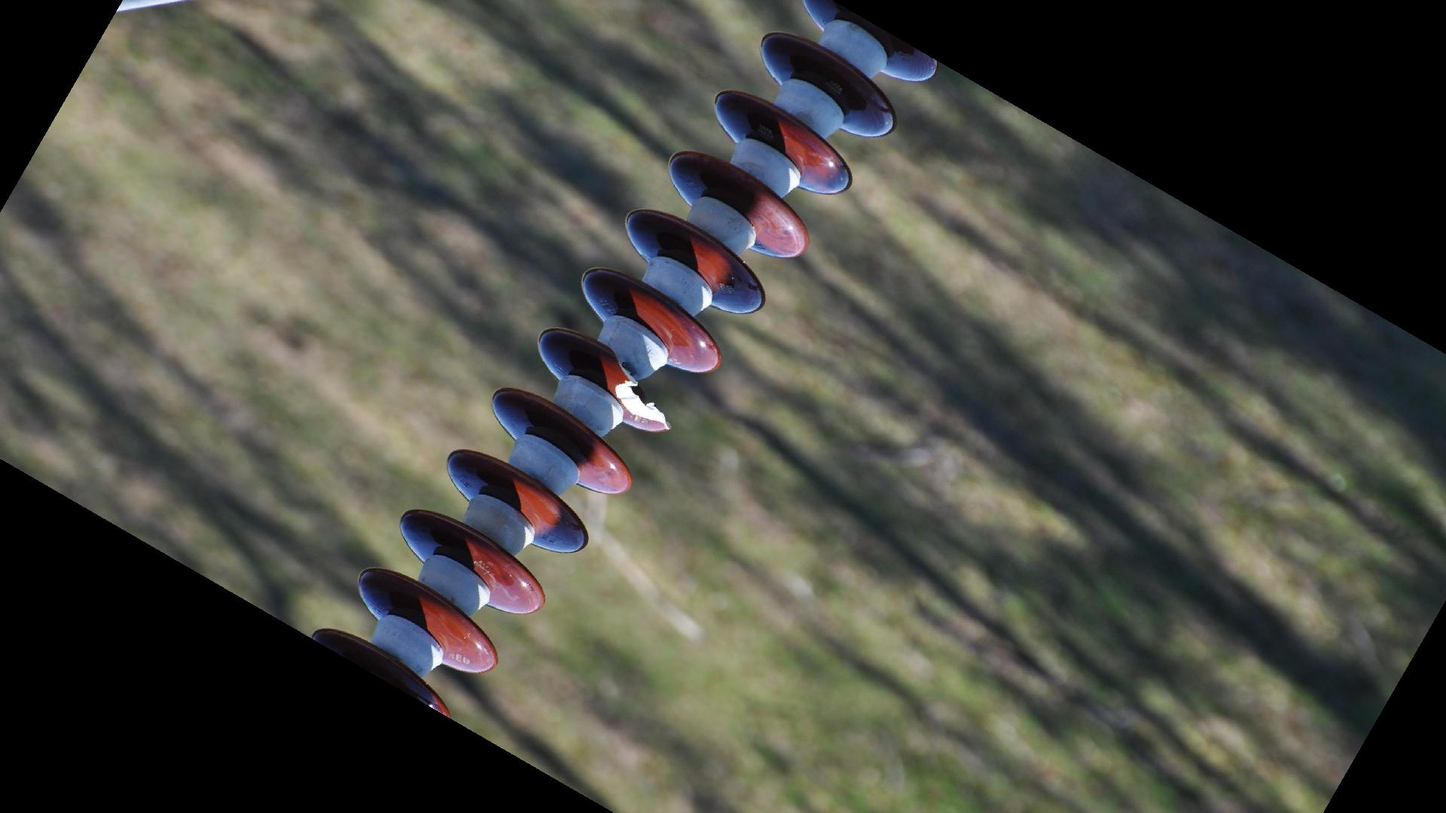insulator: (307, 1, 947, 720)
insulator_breakage: (602, 343, 679, 441)
